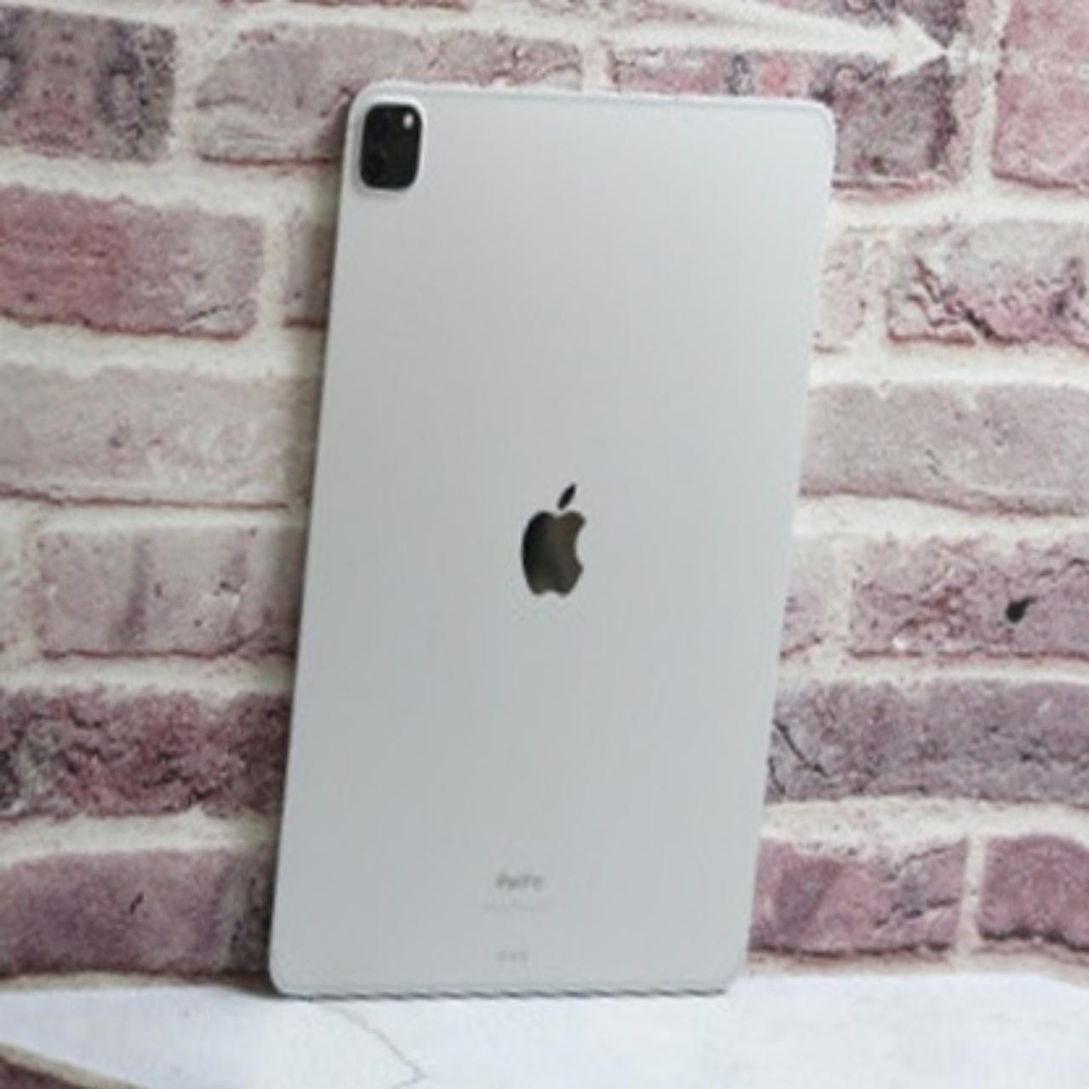Tablet_PC: (212, 23, 887, 1056)
